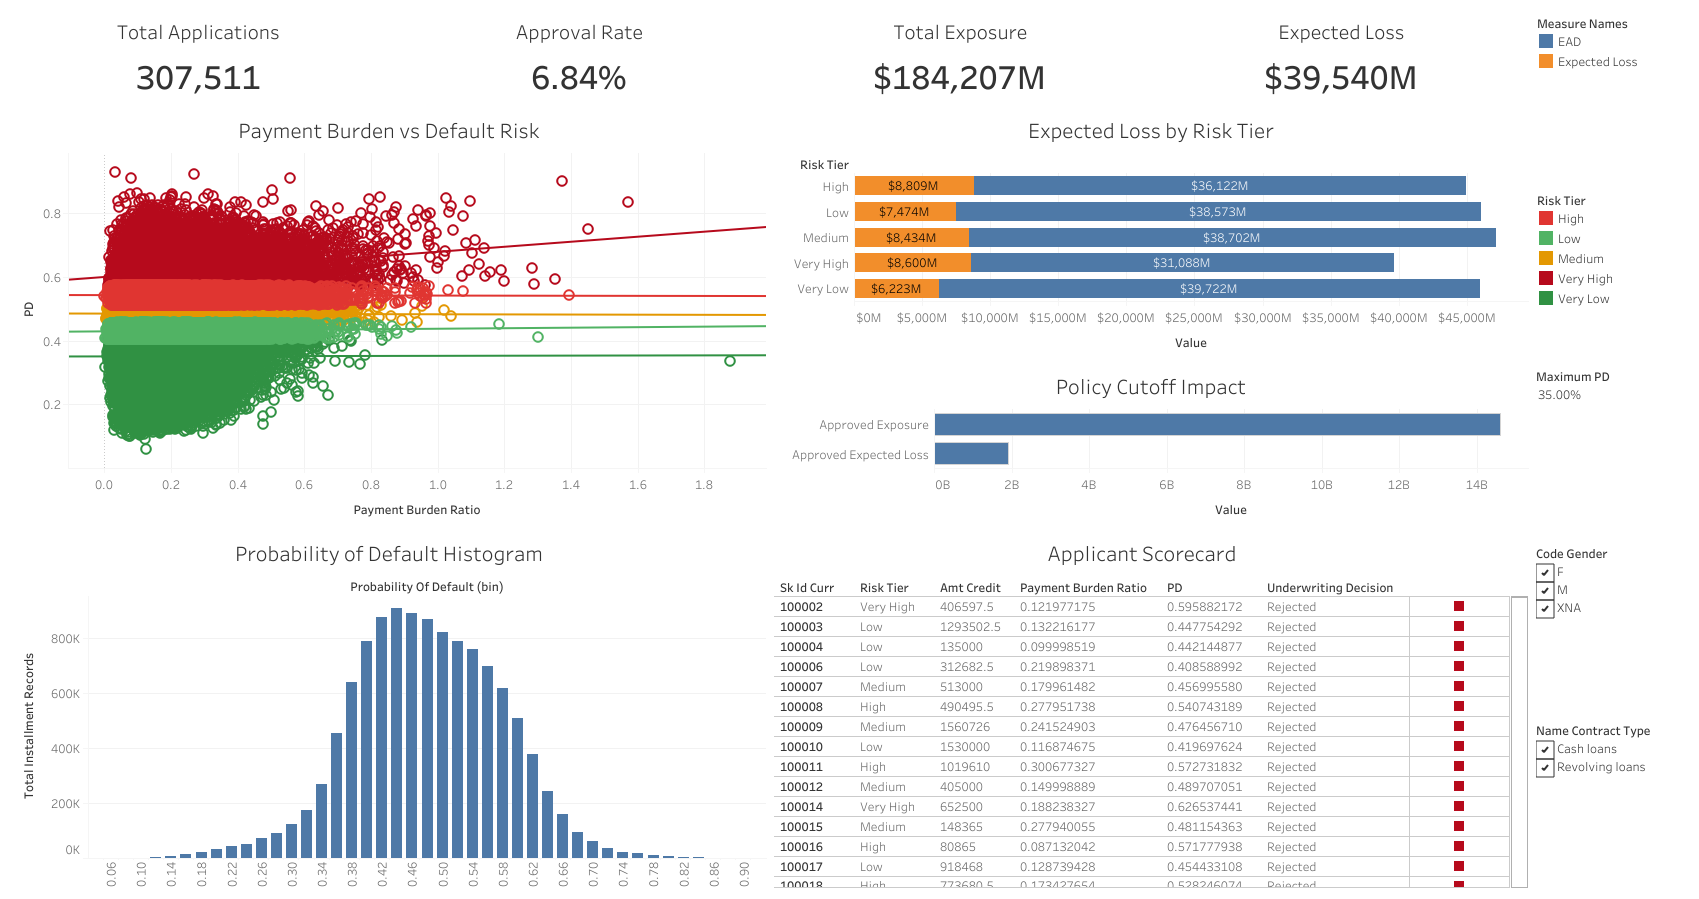

This screenshot's page, from the dashboard's own definition file:
{"tool":"tableau","page":{"name":"Dashboard 1","canvas":[1700,900],"ordinal":0},"visuals":[{"type":"worksheet","title":"Total Applications","mark":"Automatic","box":[8,8,381,98]},{"type":"worksheet","title":"Approval Rate","mark":"Automatic","box":[389,8,381,98]},{"type":"worksheet","title":"Total Exposure","mark":"Automatic","box":[770,8,381,98]},{"type":"worksheet","title":"Expected Loss","mark":"Automatic","box":[1151,8,381,98]},{"type":"legend","title":"Expected Loss by Risk Tier","param":"[federated.0gsierk0yuucv218bu04t0jtj377].[:Measure Names]","box":[1532,8,160,177]},{"type":"worksheet","title":"Payment Burden vs Default Risk","mark":"Automatic","rows":["PD"],"cols":["PAYMENT_BURDEN_RATIO"],"box":[8,106,762,423]},{"type":"worksheet","title":"Expected Loss by Risk Tier","mark":"Automatic","rows":["RISK_TIER"],"box":[770,106,762,256]},{"type":"legend","title":"Payment Burden vs Default Risk","param":"[federated.0gsierk0yuucv218bu04t0jtj377].[none:RISK_TIER:nk]","box":[1532,185,160,177]},{"type":"worksheet","title":"Policy Cutoff Impact","mark":"Automatic","box":[770,362,762,167]},{"type":"parameter","param":"[Parameters].[Parameter 0015009933533208]","box":[1532,362,160,177]},{"type":"worksheet","title":"Probability of Default Histogram","mark":"Bar","rows":["total_installment_records"],"cols":["Probability Of Default (bin)"],"box":[8,529,762,363]},{"type":"worksheet","title":"Applicant Scorecard","mark":"Automatic","rows":["SK_ID_CURR","RISK_TIER","AMT_CREDIT","PAYMENT_BURDEN_RATIO","PD","Calculation_0015009933819929"],"box":[770,529,762,363]},{"type":"filter","title":"Total Applications","param":"[federated.0gsierk0yuucv218bu04t0jtj377].[none:CODE_GENDER:nk]","box":[1532,539,160,177]},{"type":"filter","title":"Total Applications","param":"[federated.0gsierk0yuucv218bu04t0jtj377].[none:NAME_CONTRACT_TYPE:nk]","box":[1532,716,160,176]}]}

Visuals, with their boxes in screenshot pixels (x1, y1, x2, y2), scaled from the page's 1700x900 canvas onto the 1699x899 screenshot:
"Total Applications" worksheet: (x1=8, y1=8, x2=389, y2=106)
"Approval Rate" worksheet: (x1=389, y1=8, x2=770, y2=106)
"Total Exposure" worksheet: (x1=770, y1=8, x2=1150, y2=106)
"Expected Loss" worksheet: (x1=1150, y1=8, x2=1531, y2=106)
"Expected Loss by Risk Tier" legend: (x1=1531, y1=8, x2=1691, y2=185)
"Payment Burden vs Default Risk" worksheet: (x1=8, y1=106, x2=770, y2=528)
"Expected Loss by Risk Tier" worksheet: (x1=770, y1=106, x2=1531, y2=362)
"Payment Burden vs Default Risk" legend: (x1=1531, y1=185, x2=1691, y2=362)
"Policy Cutoff Impact" worksheet: (x1=770, y1=362, x2=1531, y2=528)
parameter: (x1=1531, y1=362, x2=1691, y2=538)
"Probability of Default Histogram" worksheet (Bar marks): (x1=8, y1=528, x2=770, y2=891)
"Applicant Scorecard" worksheet: (x1=770, y1=528, x2=1531, y2=891)
"Total Applications" filter: (x1=1531, y1=538, x2=1691, y2=715)
"Total Applications" filter: (x1=1531, y1=715, x2=1691, y2=891)
